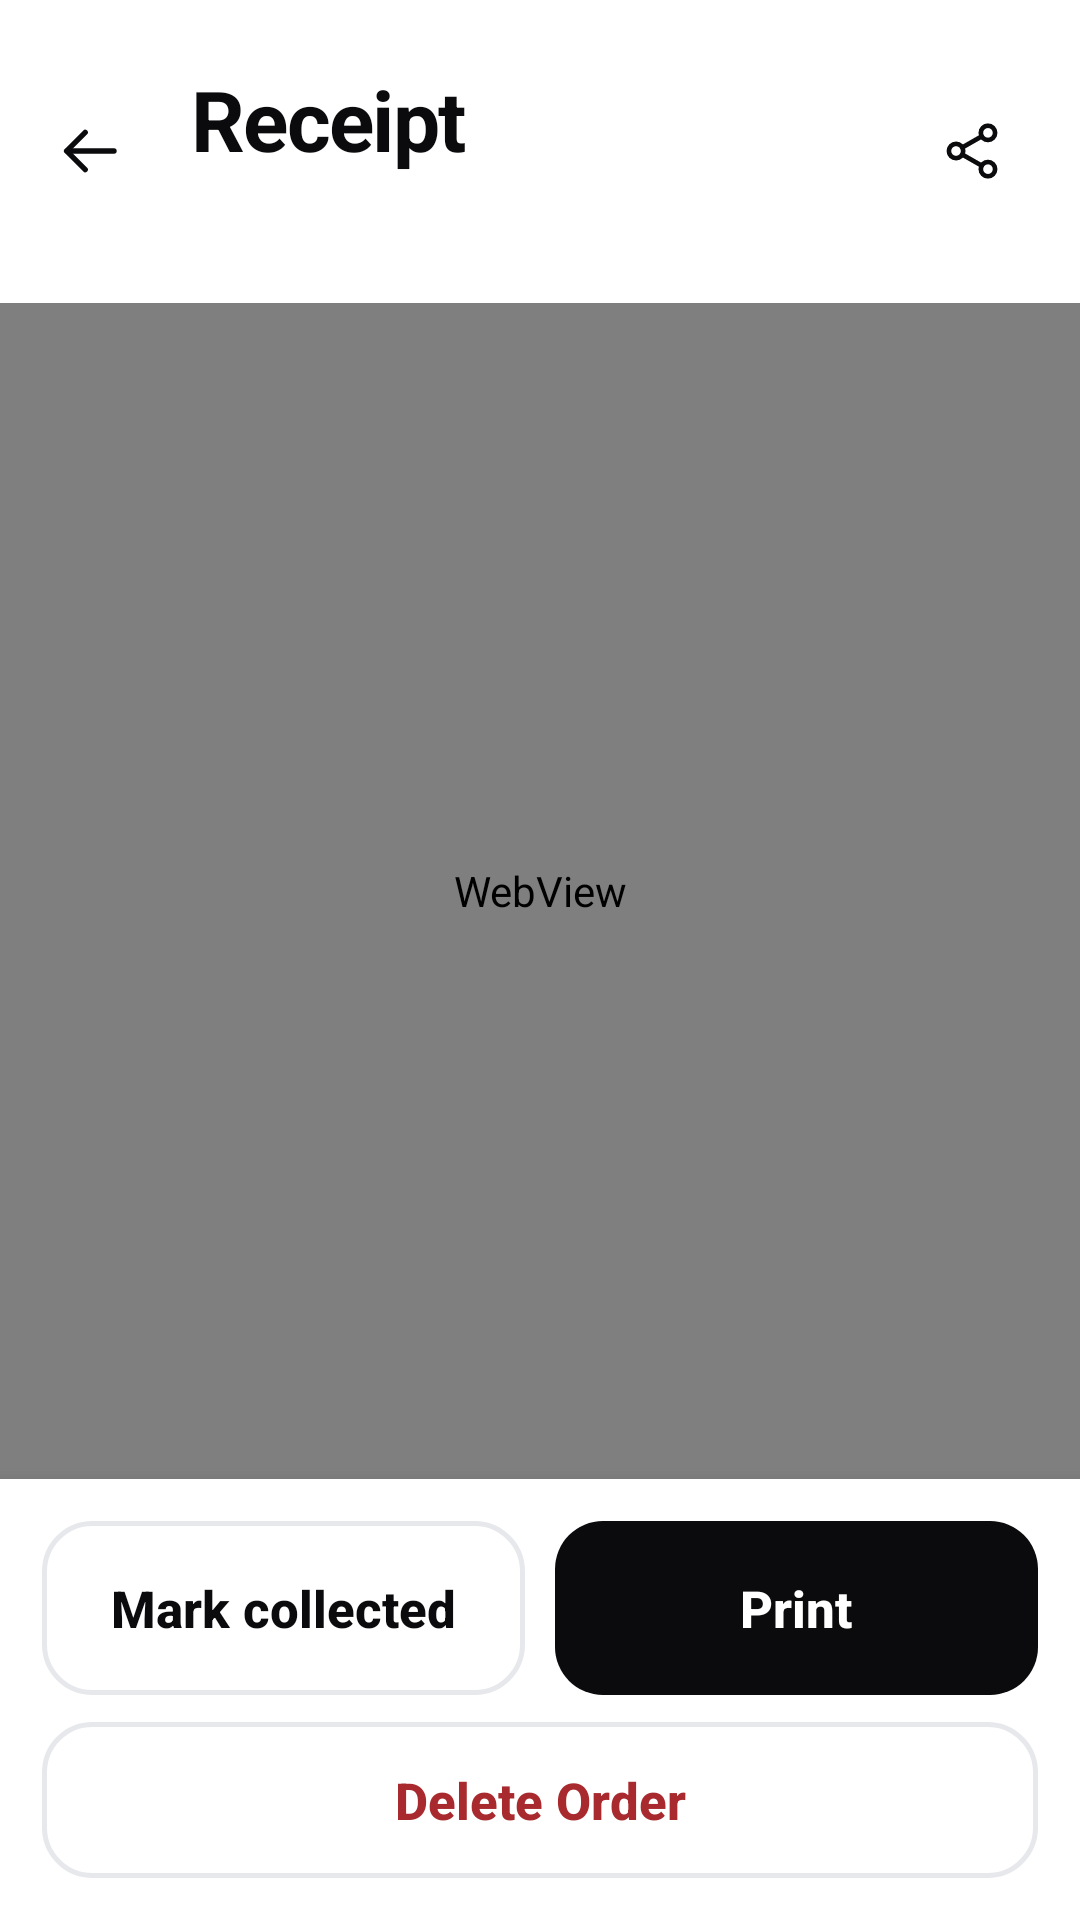

Icon click points for this 1080×1920 phone screenshot, format (x=x, y=y):
back: (x=90, y=151)
share: (x=972, y=151)
